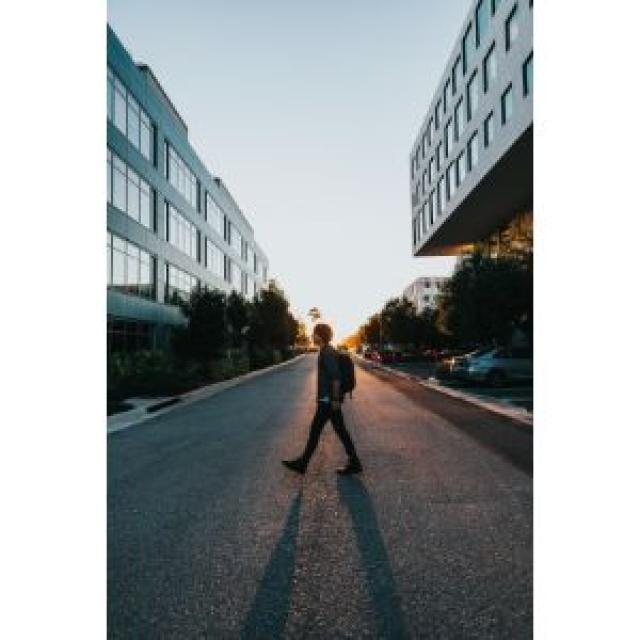nonfall: (270, 320, 396, 492)
